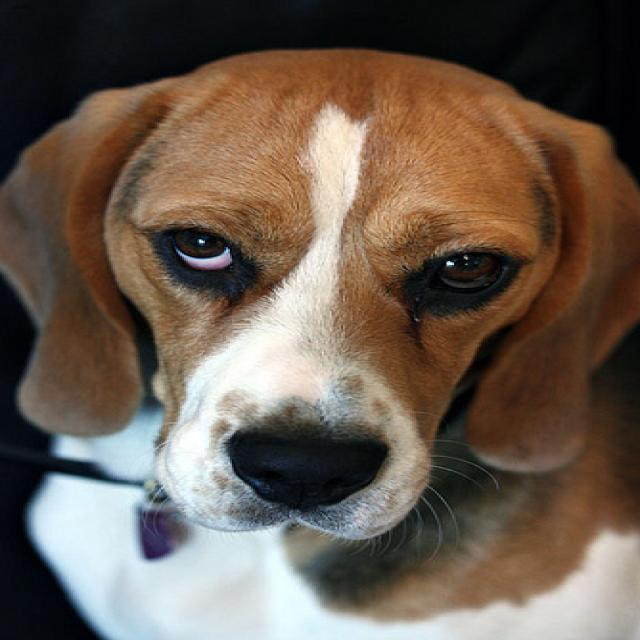dog-beagle: (2, 35, 636, 637)
